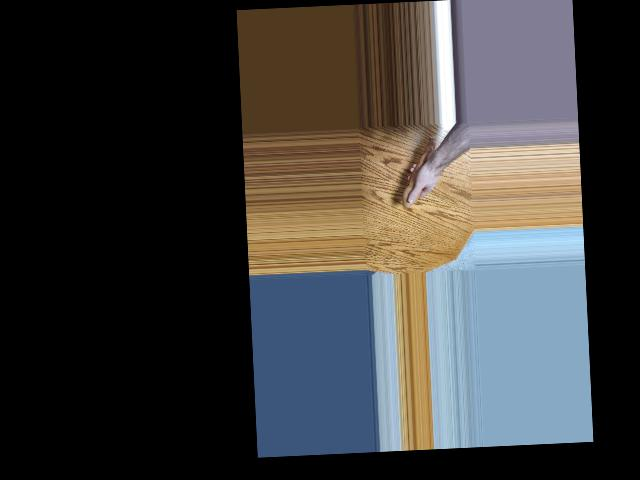sweet_potato: (397, 132, 441, 208)
